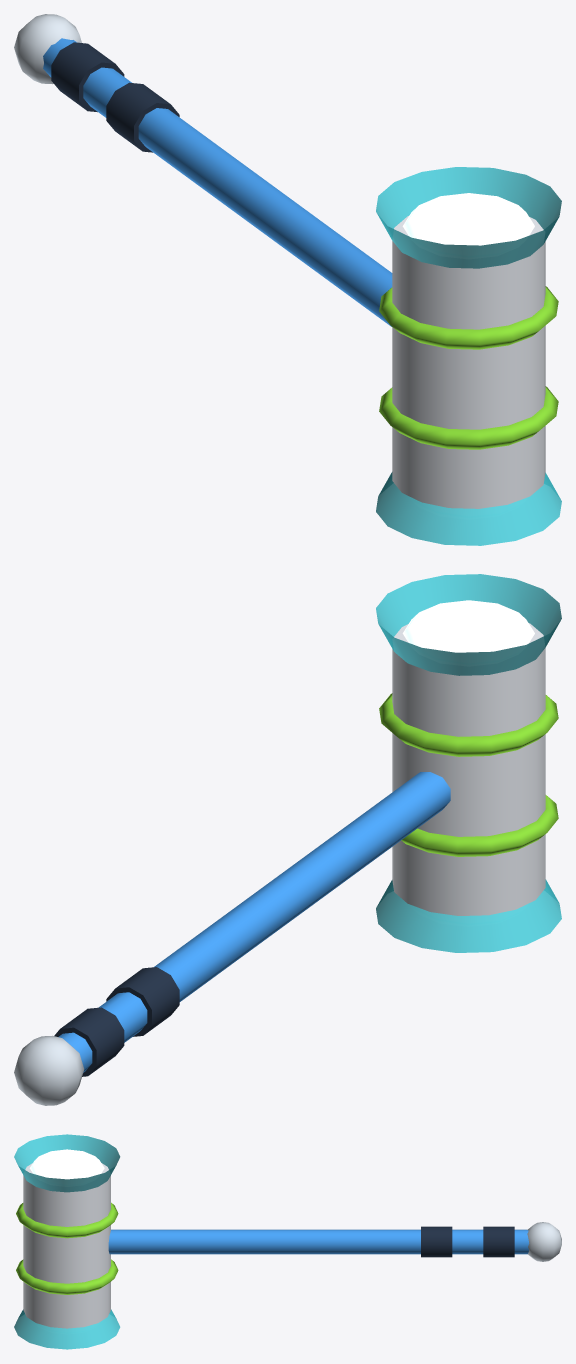
File: SonicHammer.fbx
3 views of the same model, one above another, from view 1: azimuth 30°, elevation 25°; view 2: azimuth 150°, elevation 25°; view 3: azimuth 270°, elevation 25° (orthographic). The views are drawn at different scales.
Parts seen in each view (by area): view 1: SonicHammer; view 2: SonicHammer; view 3: SonicHammer.
Part boxes in pixels (bbox=[...]): SonicHammer: bbox=[14, 14, 561, 545]; SonicHammer: bbox=[14, 574, 561, 1105]; SonicHammer: bbox=[14, 1134, 561, 1349].
Bounding box in the file's own units: 0.17 × 0.3 × 0.8754.
